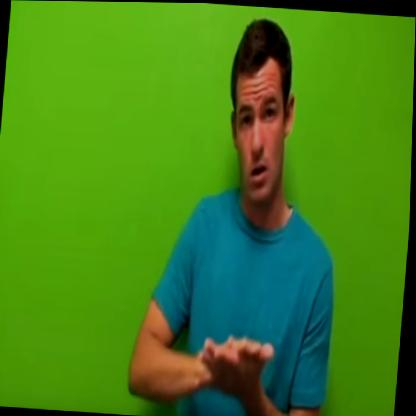NiceToMeetYou: (179, 318, 289, 416)
